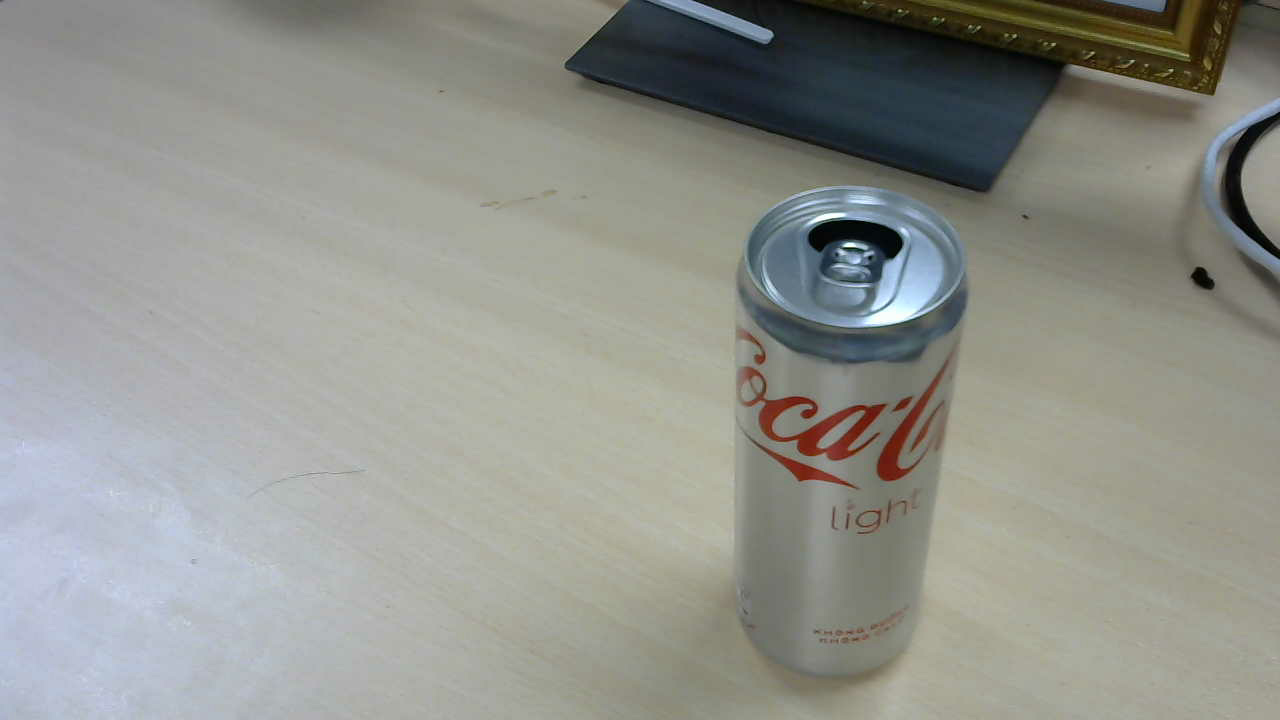Coca_Cola: (735, 190, 979, 684)
